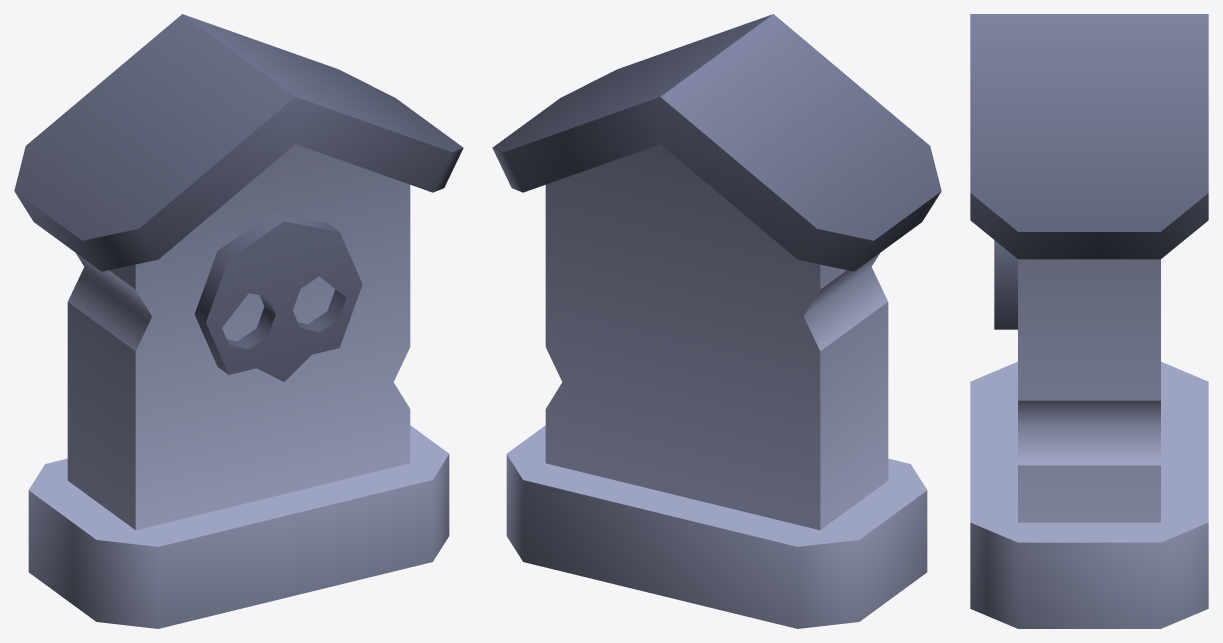
Rendered from gravestone-roof.glb.
3 renders of one model, left to right at view 1: azimuth 30°, elevation 25°; view 2: azimuth 150°, elevation 25°; view 3: azimuth 270°, elevation 25°, orthographic. The views are drawn at different scales.
Parts seen in each view (by area): view 1: gravestone-roof; view 2: gravestone-roof; view 3: gravestone-roof.
Boxes of the visible parts, bbox=[...] form: gravestone-roof: bbox=[14, 14, 463, 628]; gravestone-roof: bbox=[492, 14, 941, 628]; gravestone-roof: bbox=[970, 14, 1208, 628].
Size of the model in its own units: 9.73 by 12.15 by 5.
Materials: 1 (1 with a texture image).
